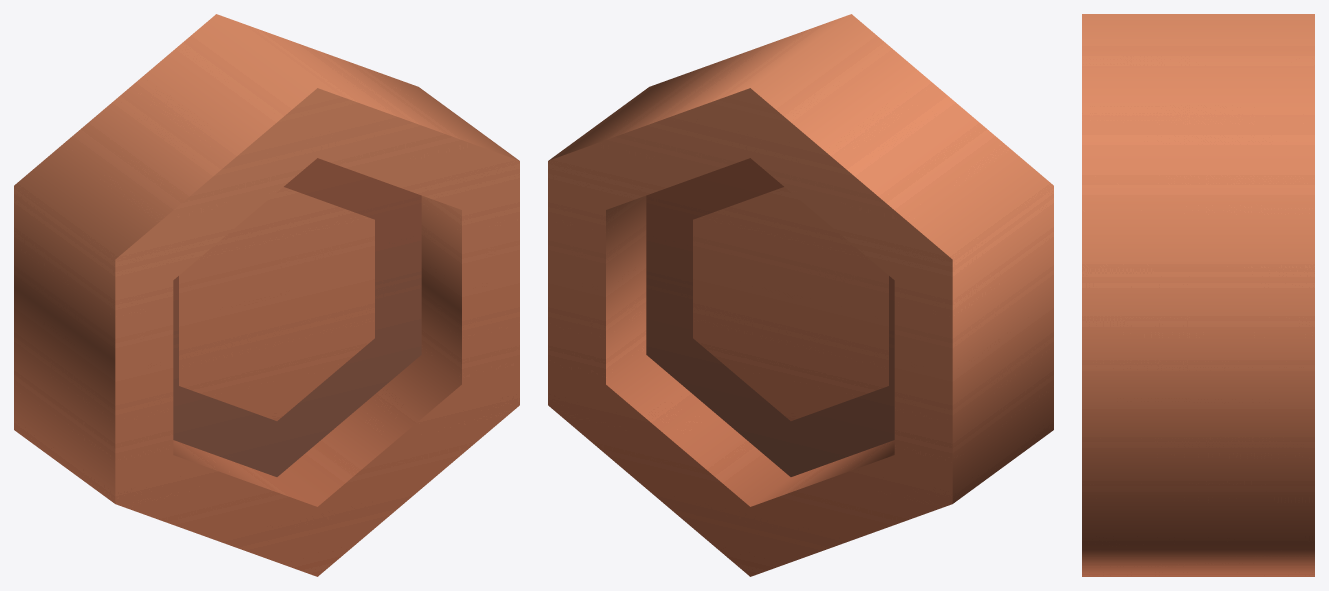
Rendered from coin-bronze.glb.
The picture shows the model from 3 angles, left to right: view 1: azimuth 30°, elevation 25°; view 2: azimuth 150°, elevation 25°; view 3: azimuth 270°, elevation 25°; orthographic projection. The views are drawn at different scales.
Visible parts, largest first — view 1: coin-bronze; view 2: coin-bronze; view 3: coin-bronze.
Boxes of the visible parts, x1,y1,x2,y2 form: coin-bronze: (14,14,519,576); coin-bronze: (548,14,1053,576); coin-bronze: (1082,14,1314,576).
Bounding box in the file's own units: 0.3464 × 0.4 × 0.15.
Materials: 1 (1 with a texture image).
